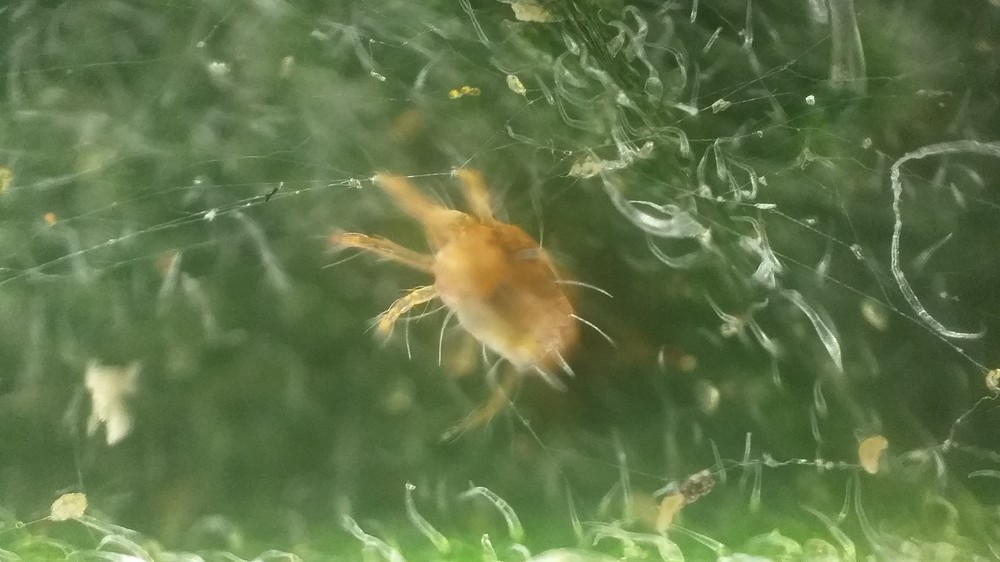Aracnido Rojo: (338, 165, 636, 445)
